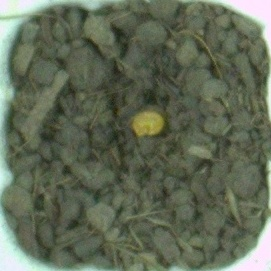chilli seed: (131, 110, 166, 139)
